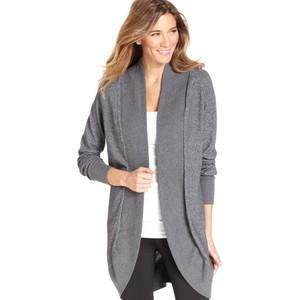C_cardigan sweater: (82, 70, 228, 289)
